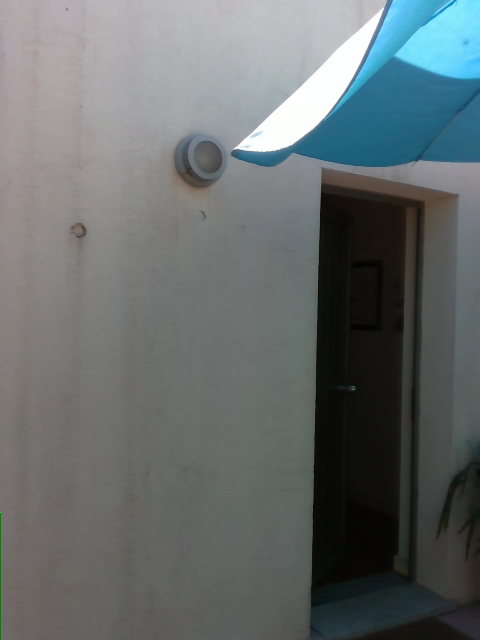semi: (308, 168, 458, 624)
